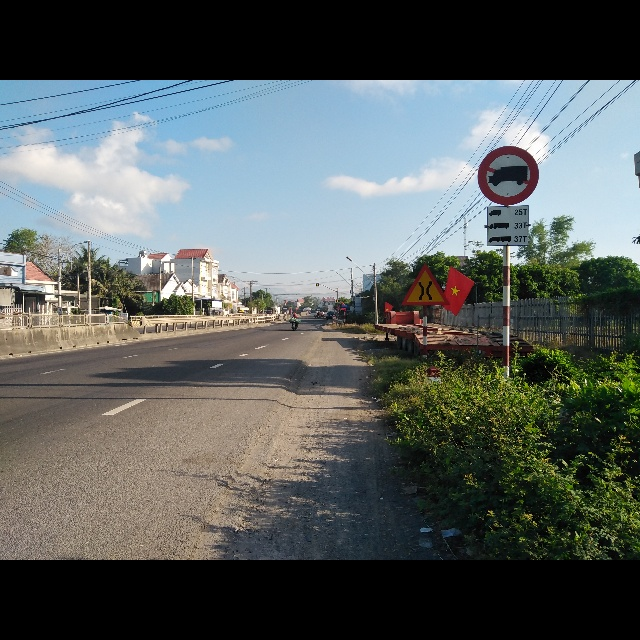Cấm xe tải: (477, 146, 538, 205)
Cầu hẹp: (401, 263, 447, 307)
